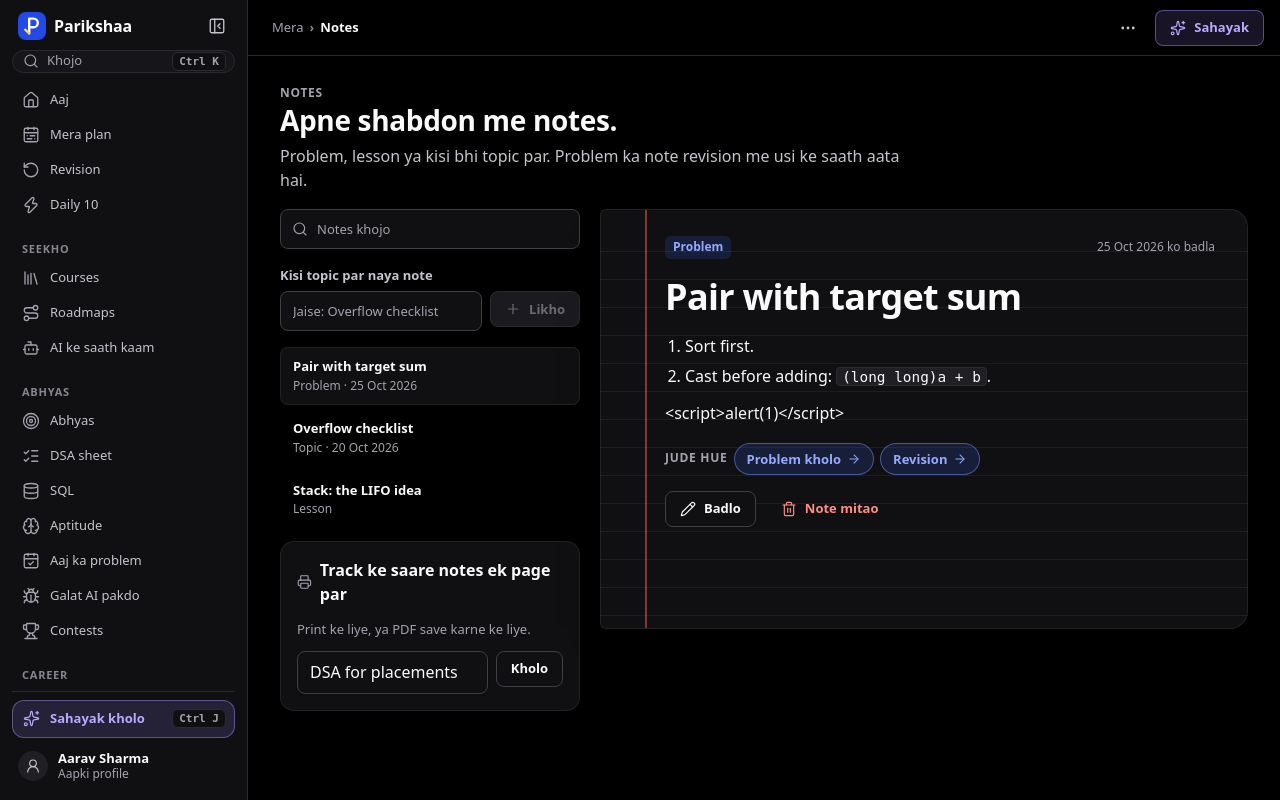
Scenario: Notes › makes a topic note here, under the topic's name
In the field labelled "Kisi topic par naya note": (381,311) [280,291,482,331], type "DBMS normal forms"
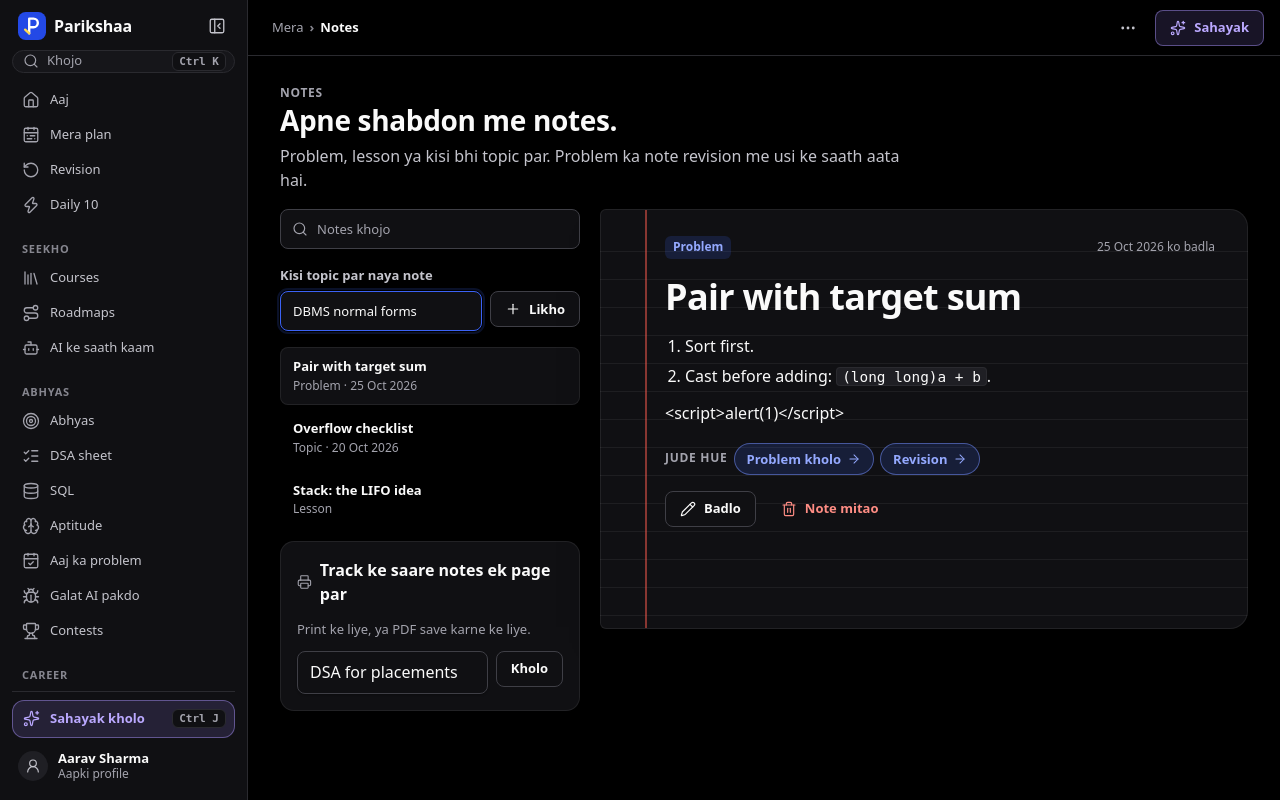
Click the button "Likho": (535,309) [490,291,580,327]
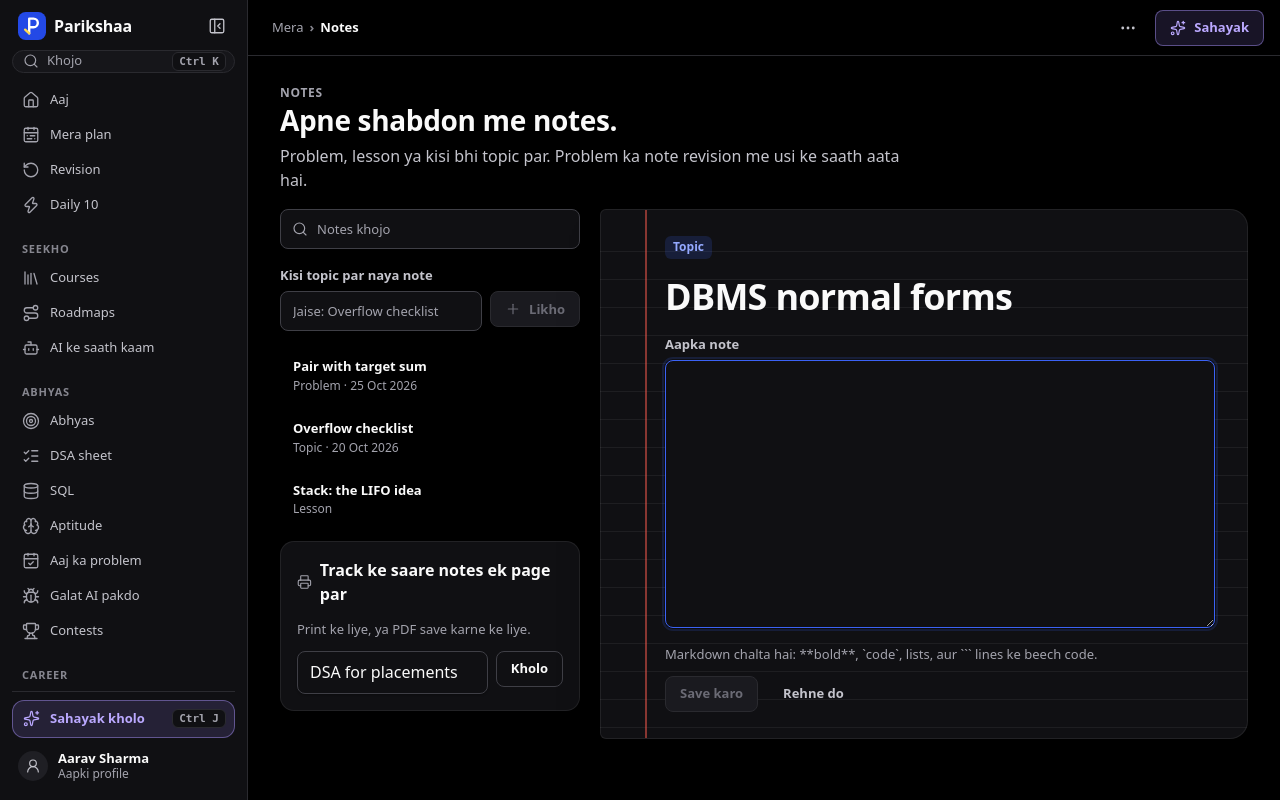
In the text box labelled "Aapka note": (940,494) [665,360,1215,628], type "1NF: atomic."
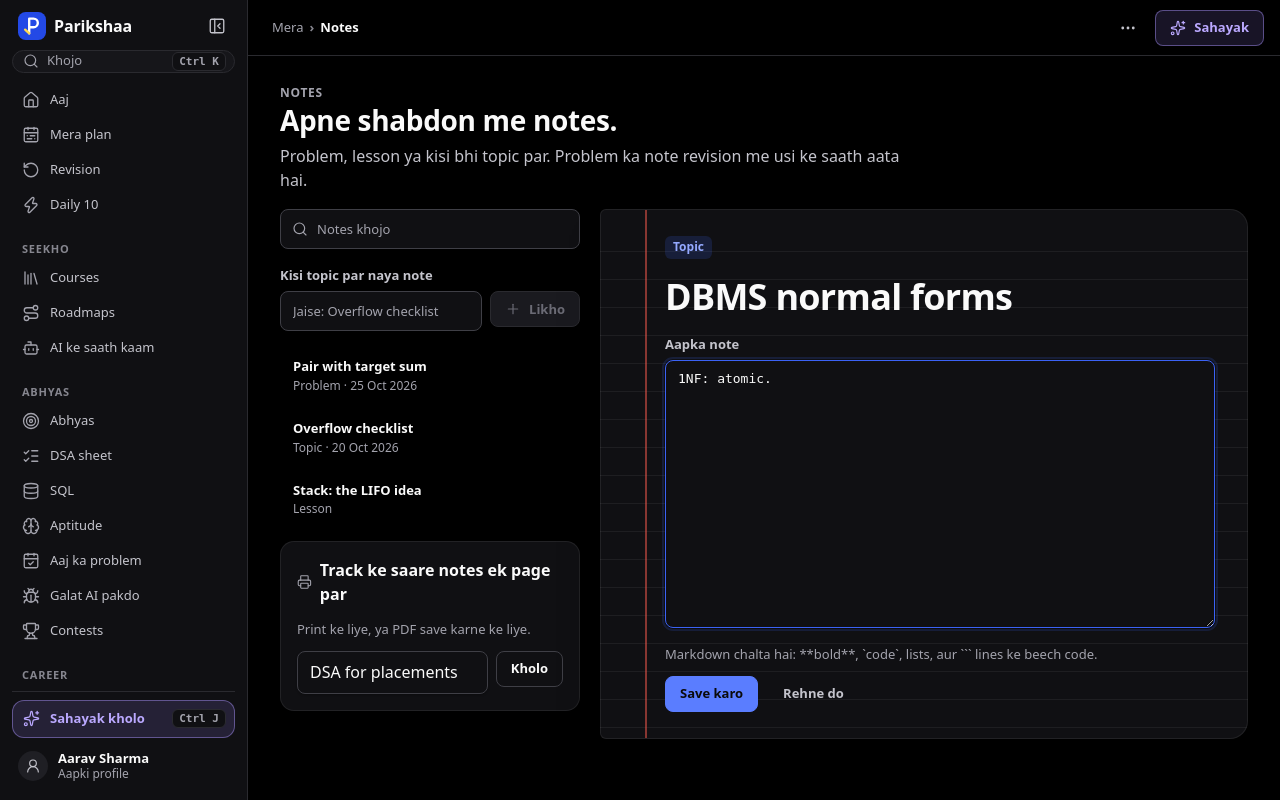
Click the button "Save karo": (712,694) [665,676,758,712]
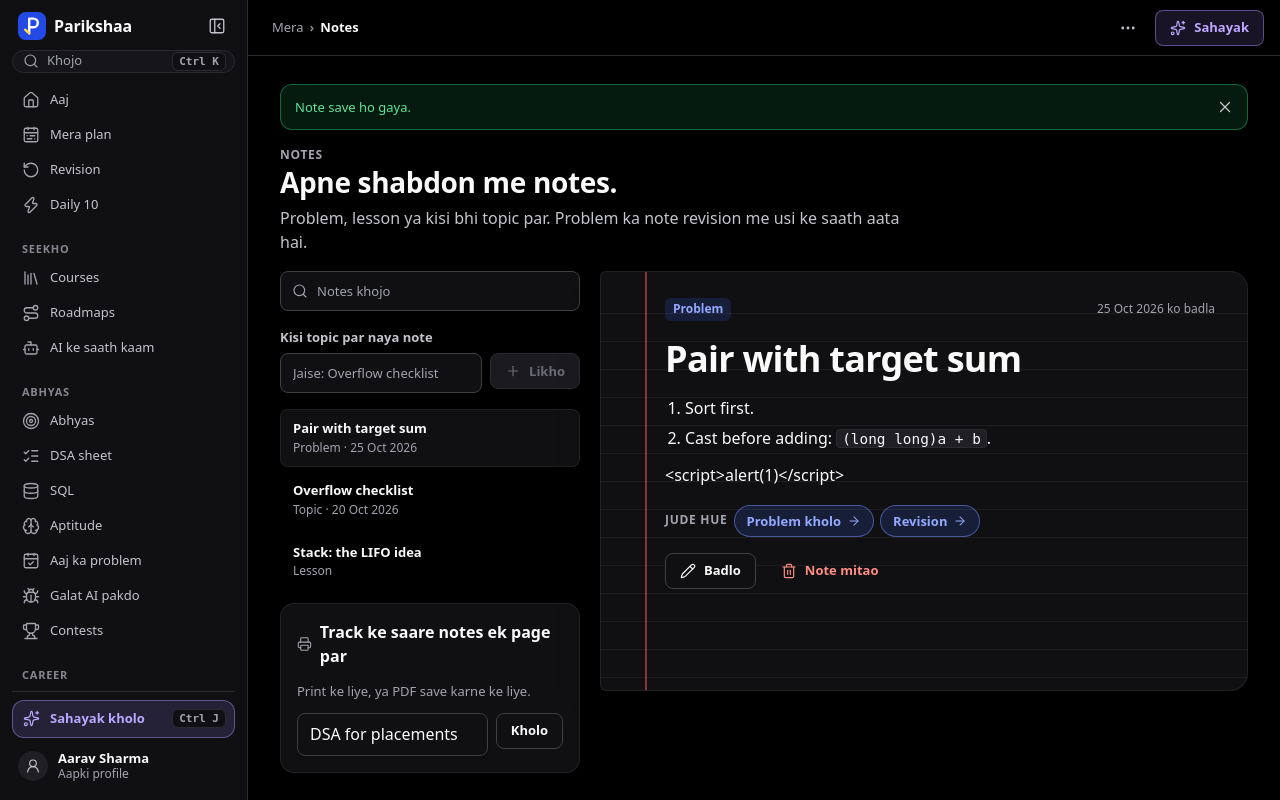
An existing topic opens for writing instead of starting again.
In the field labelled "Kisi topic par naya note": (381,373) [280,353,482,393], type "overflow checklist"
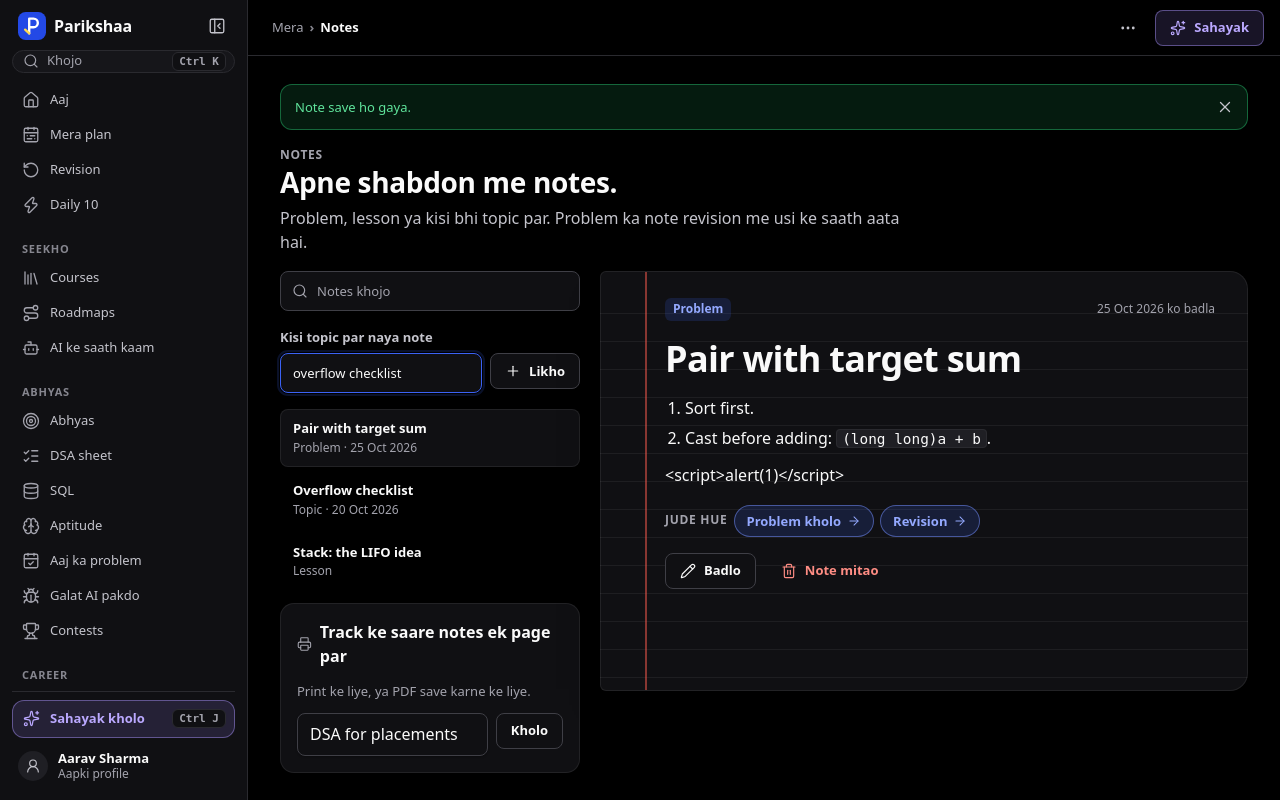
Click the button "Likho": (535,371) [490,353,580,389]
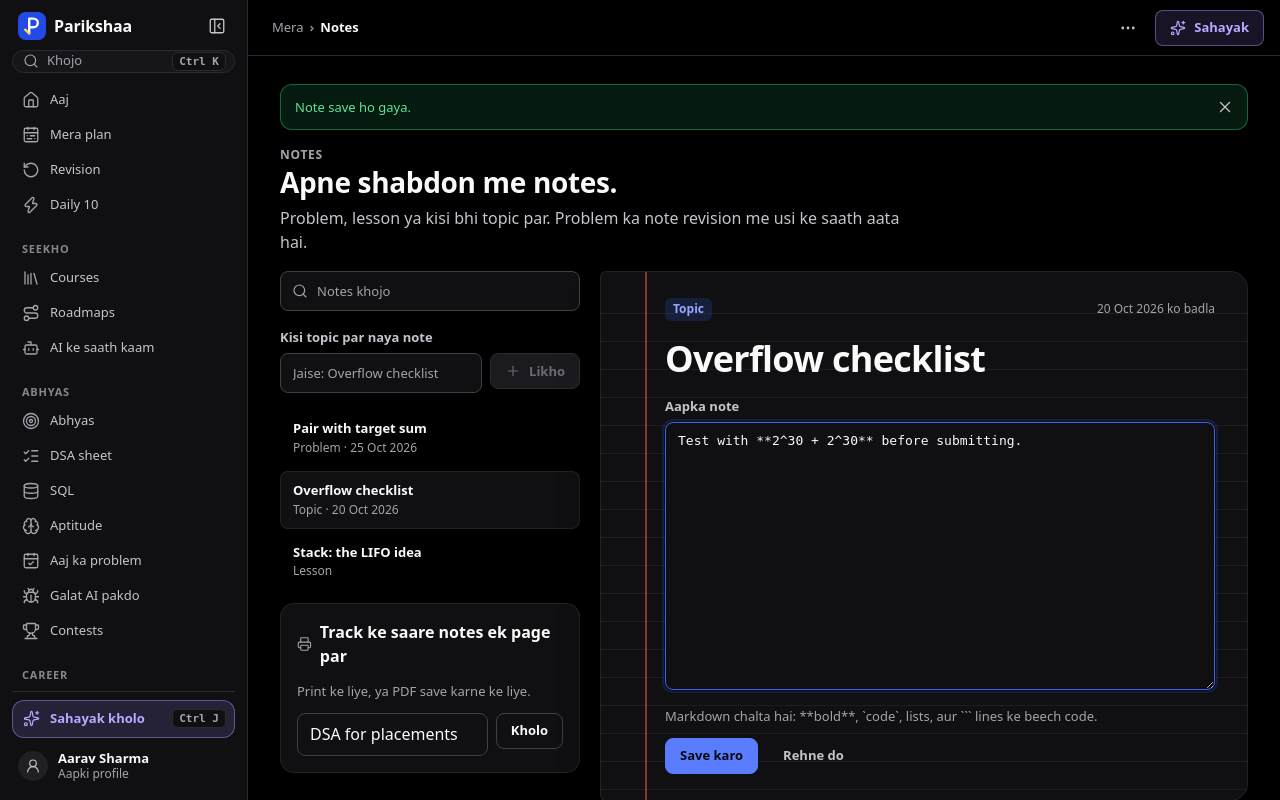
Expected: the text box labelled "Aapka note" holds "Test with **2^30 + 2^30** before submitting.", [665,422,1215,690]
